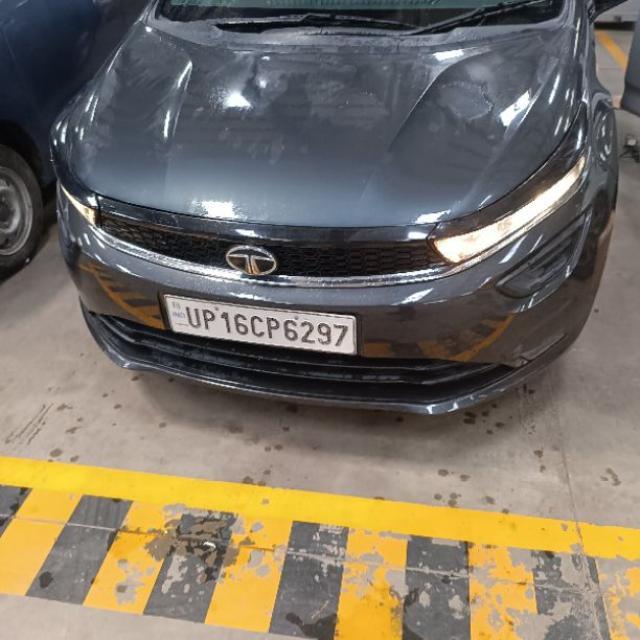license_plate: (157, 290, 358, 356)
